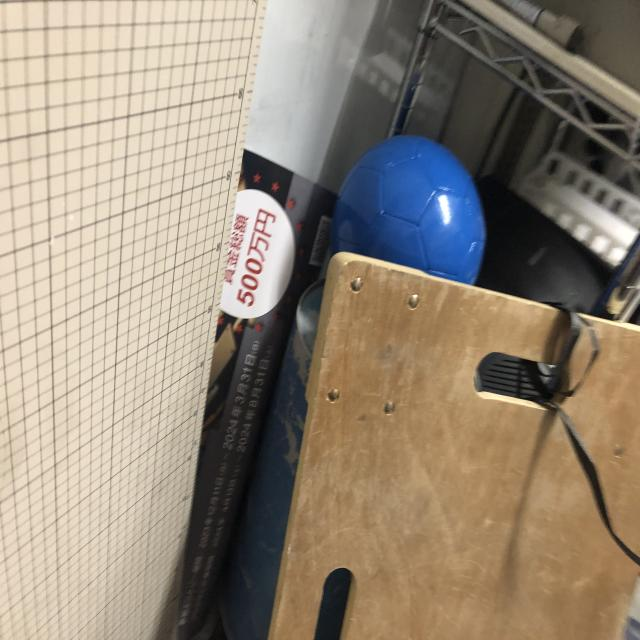blue_ball: (329, 121, 495, 289)
